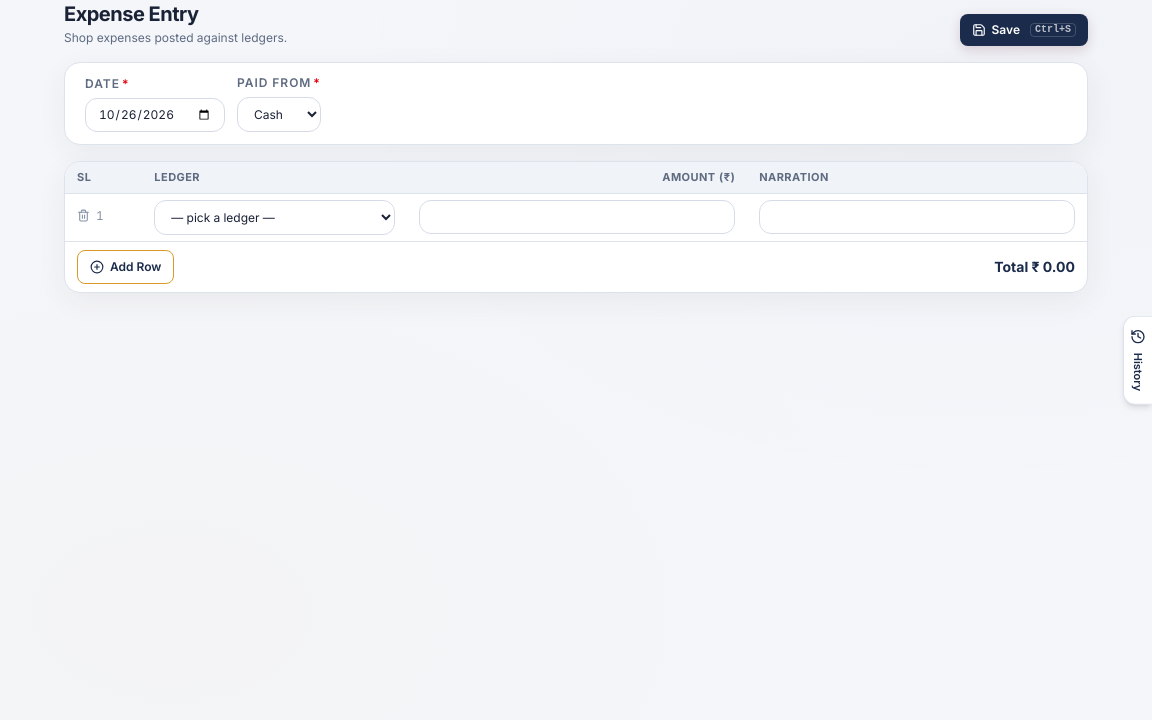
Scenario: ExpenseEntry removing a row › removes the row after Confirm
Type "250" into the number field named "Amount row 1" at (577, 217), box left=420, top=200, right=735, bottom=234
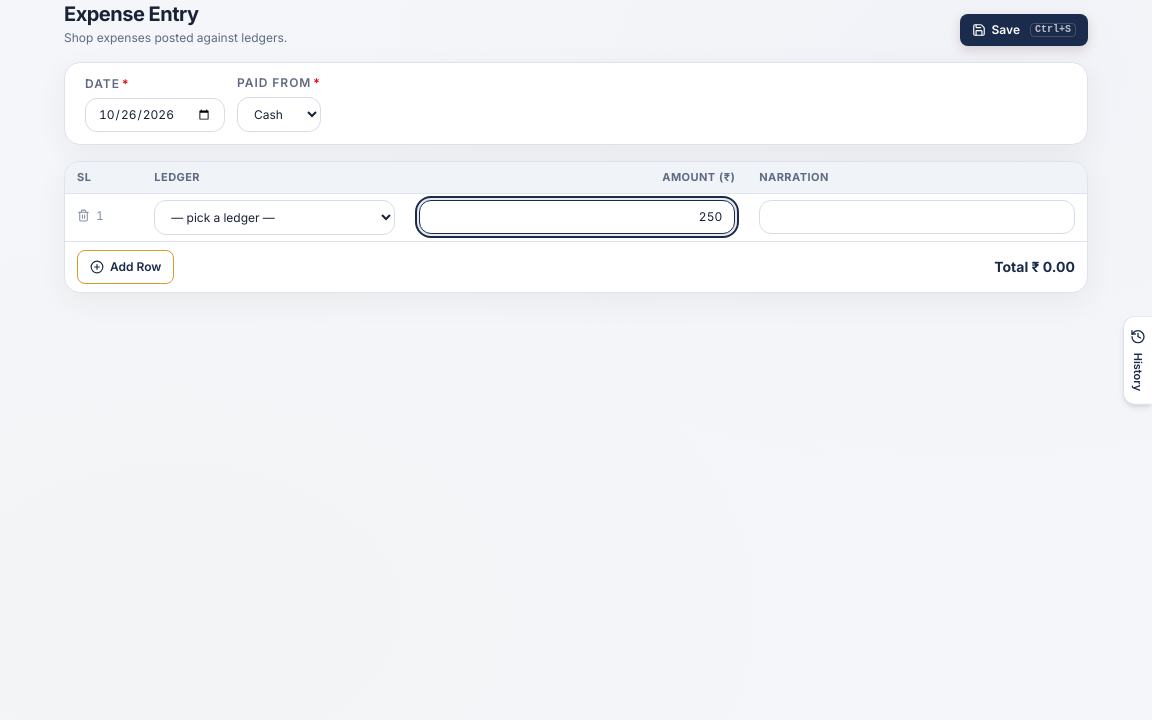
Click the button named "Remove row 1" at (84, 216), box left=77, top=209, right=90, bottom=222
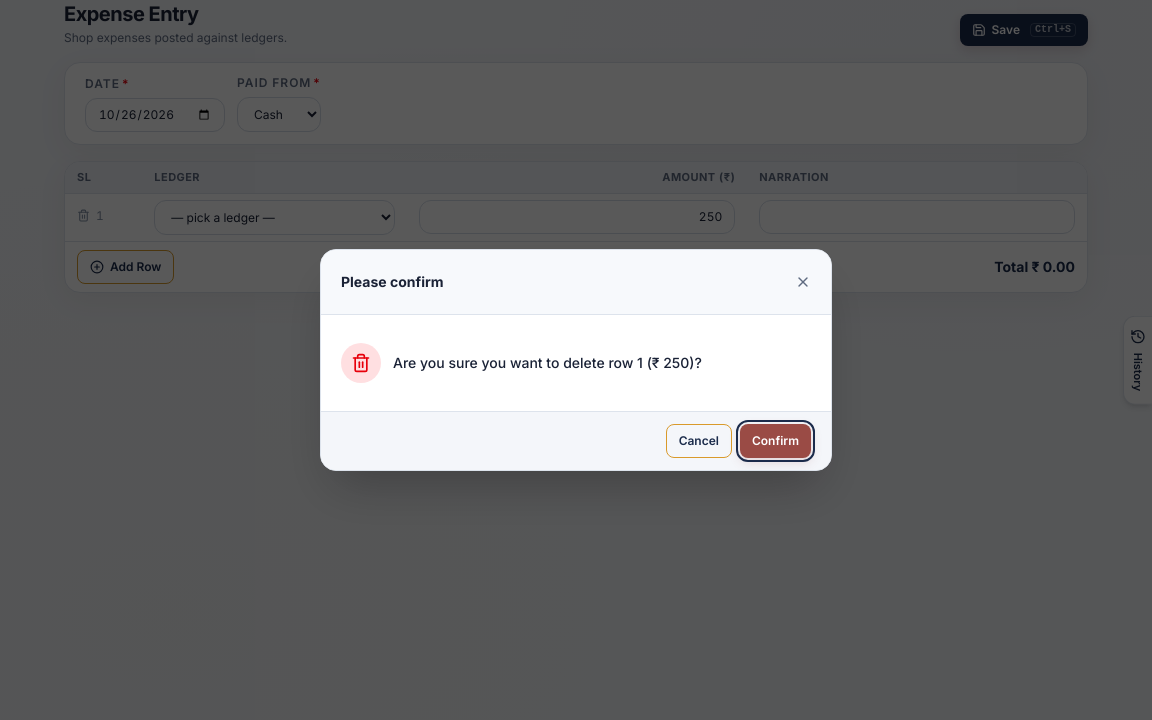
Click the button "Confirm" at (775, 441), box left=740, top=424, right=811, bottom=458
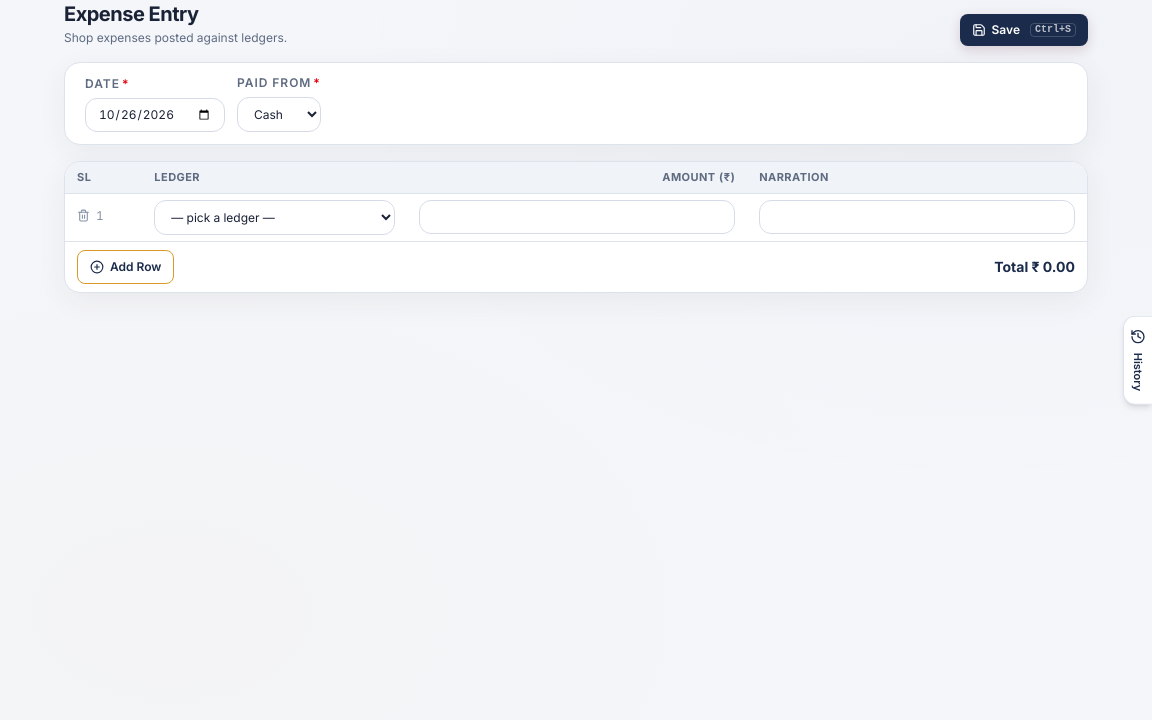
Check: the number field named "Amount row 1" is not empty, box left=420, top=200, right=735, bottom=234
